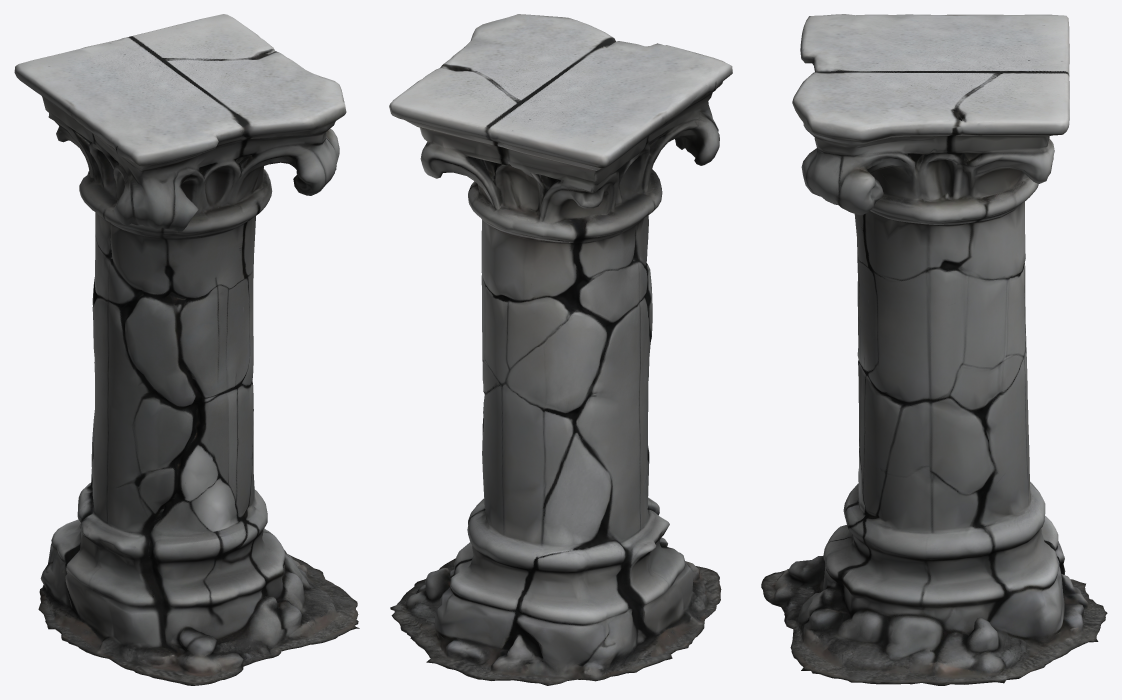
Rendered from pillar_crumbling.glb.
3 views of the same model, side by side, from view 1: azimuth 30°, elevation 25°; view 2: azimuth 150°, elevation 25°; view 3: azimuth 270°, elevation 25° (orthographic). The views are drawn at different scales.
Bounding box in the file's own units: 1.05 × 2 × 1.15.
Materials: 1 (1 with a texture image).
